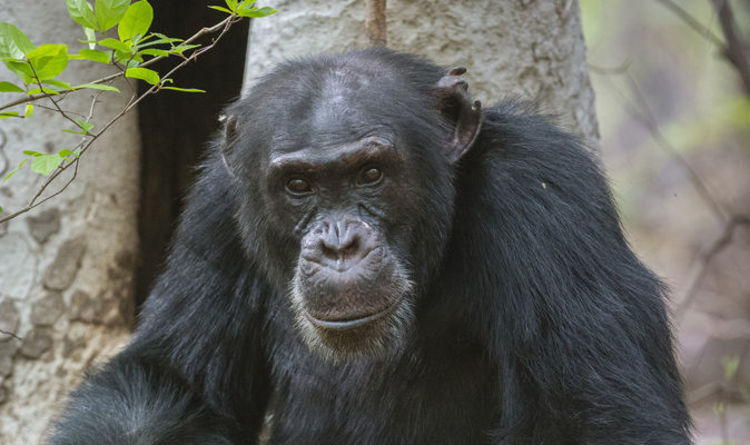Chimpanzee: (112, 58, 670, 444)
